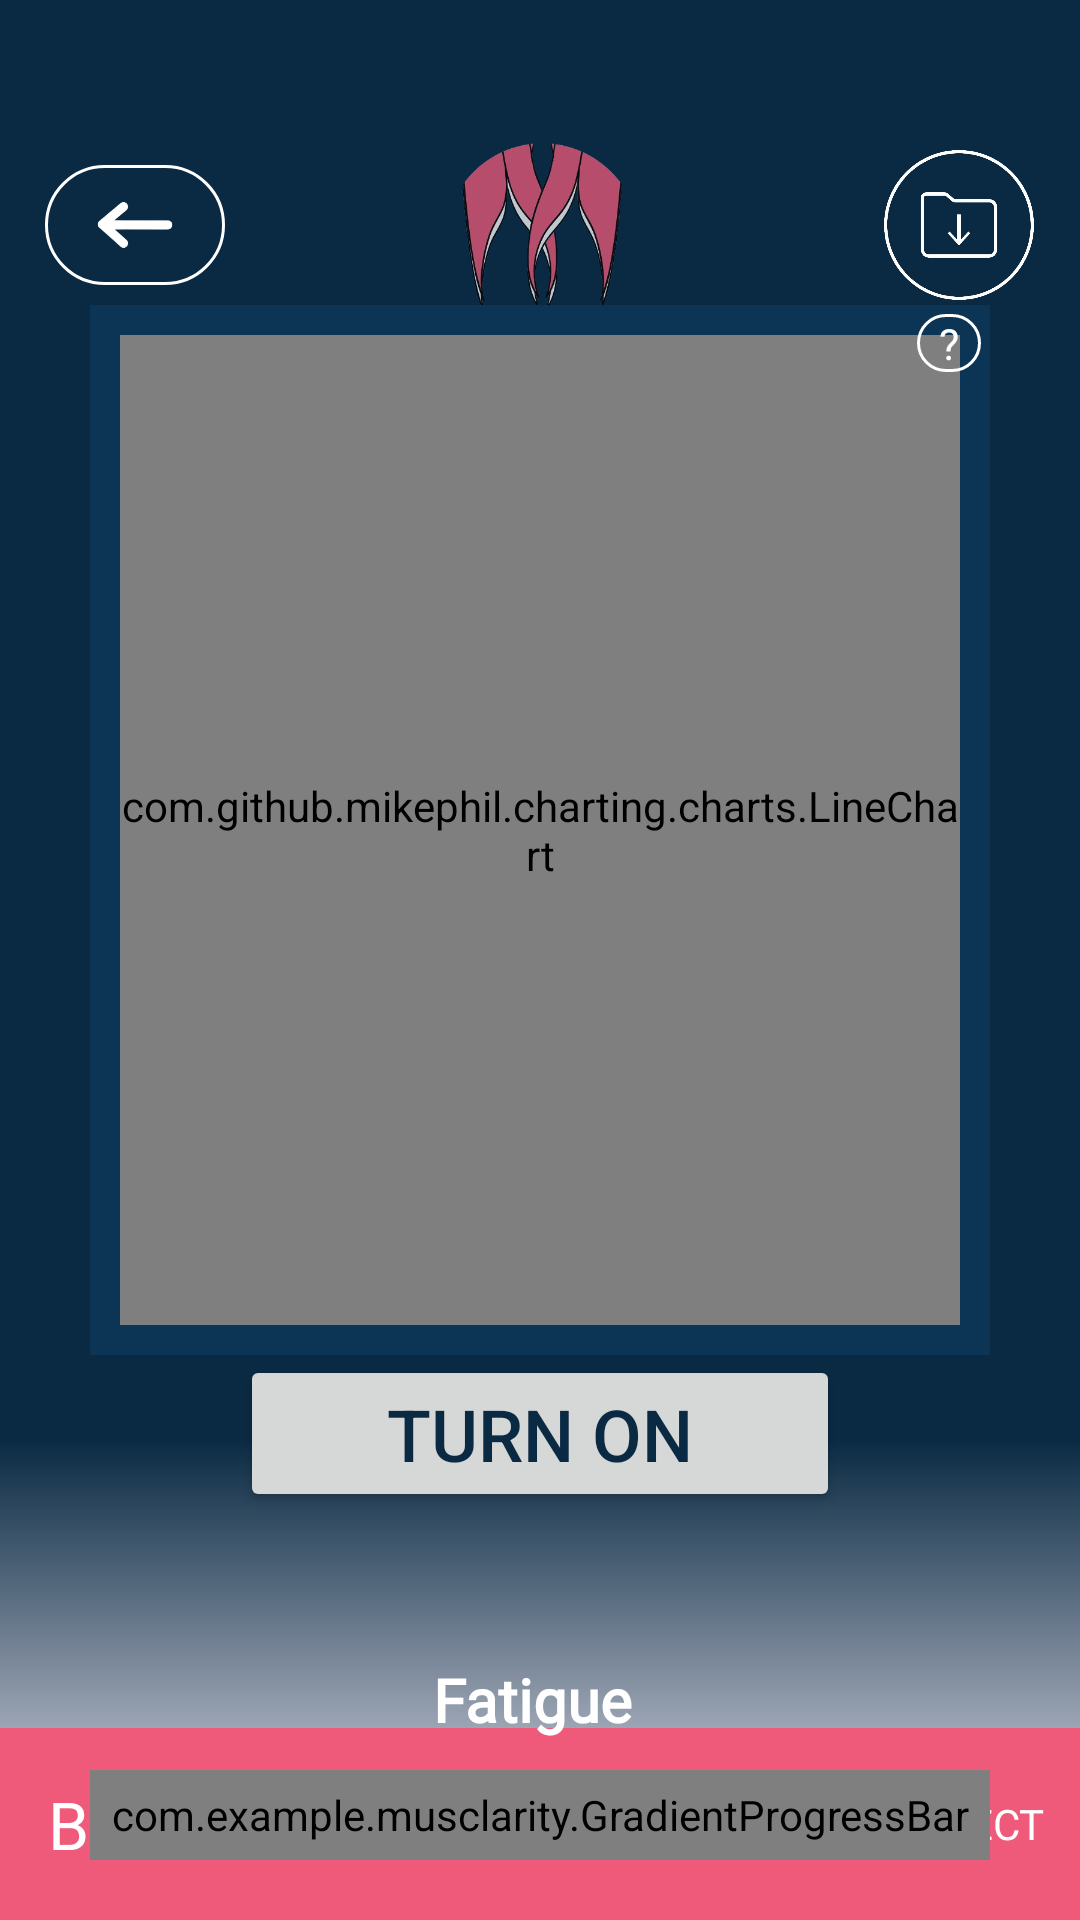

Screen size 1080*1920. Icon name, then its box in pixels as (x1, y1, x2, y2):
arrow: (45, 165, 225, 285)
download: (884, 150, 1034, 300)
